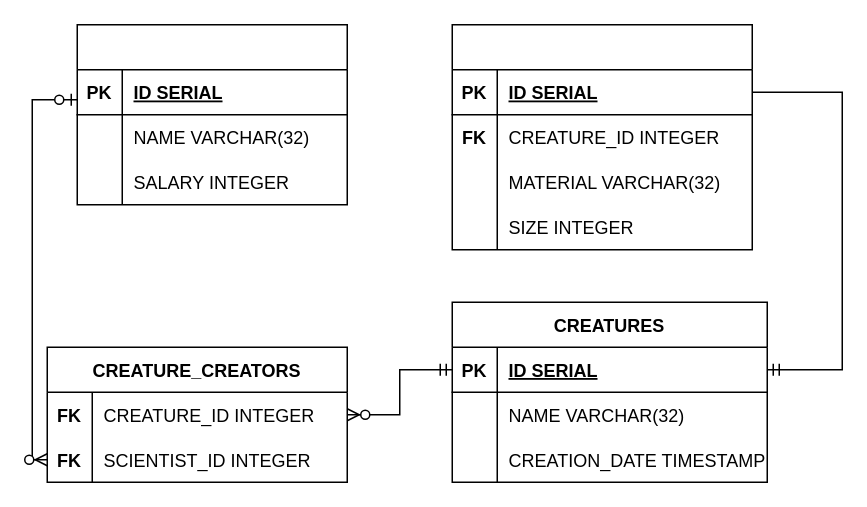
Some shapes in this 867 by 507 pixel diagram are drawn without their labels. The shapes that lost their labels are listed below. From the top down, each one's box as (x1, y1, x2, y2) in pixels, then its label:
(76, 23, 347, 205): SCIENTISTS
(451, 23, 752, 250): CAGE
